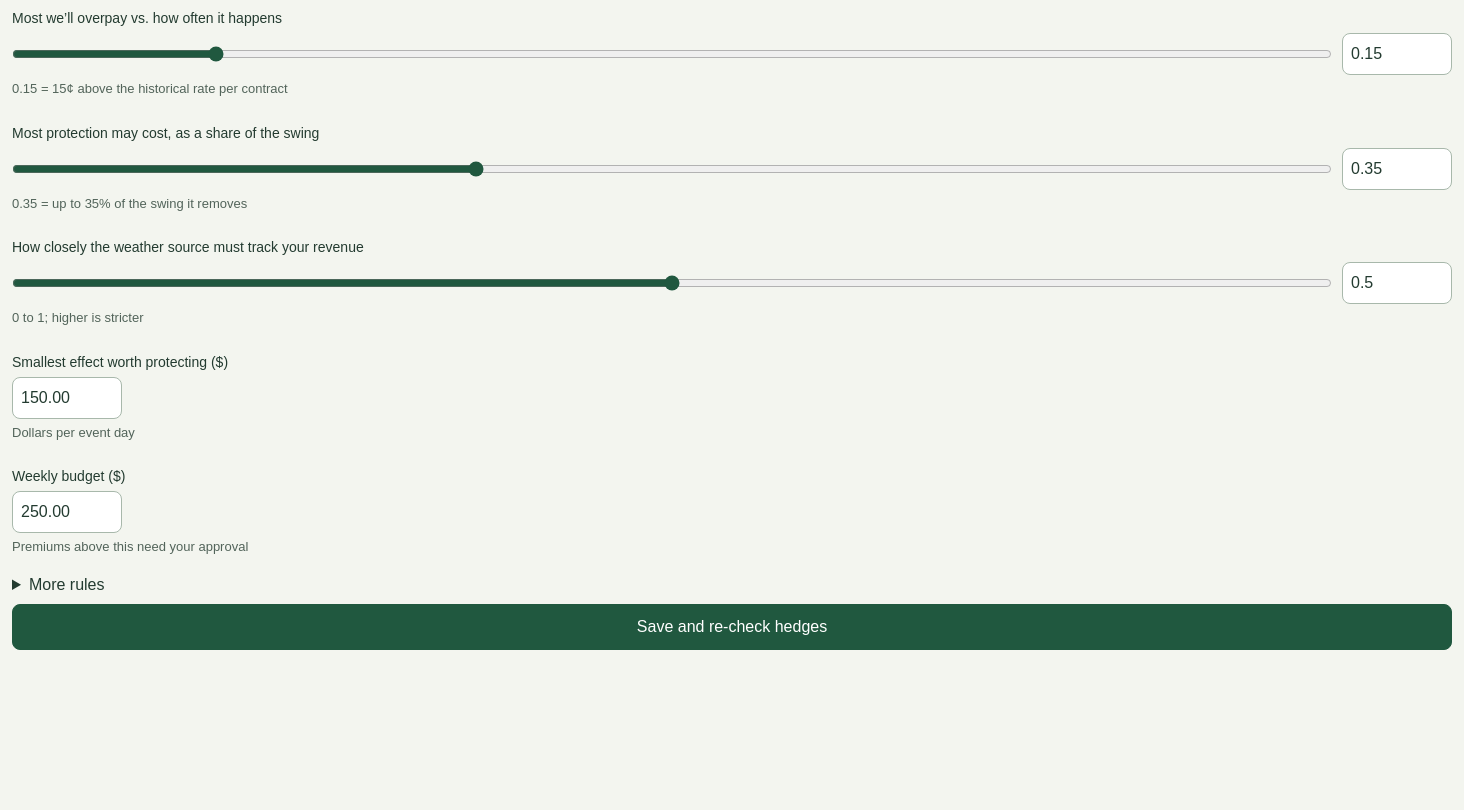
Test: C7-A19 settings validation › disables Save for {} = 1.5
Expected: the button "Save and re-check hedges" is enabled, [12,604,1452,650]
Replace the text in the field labelled "Most we’ll overpay vs. how often it happens" with "1.5" at (1397, 54), box [1342,33,1452,75]
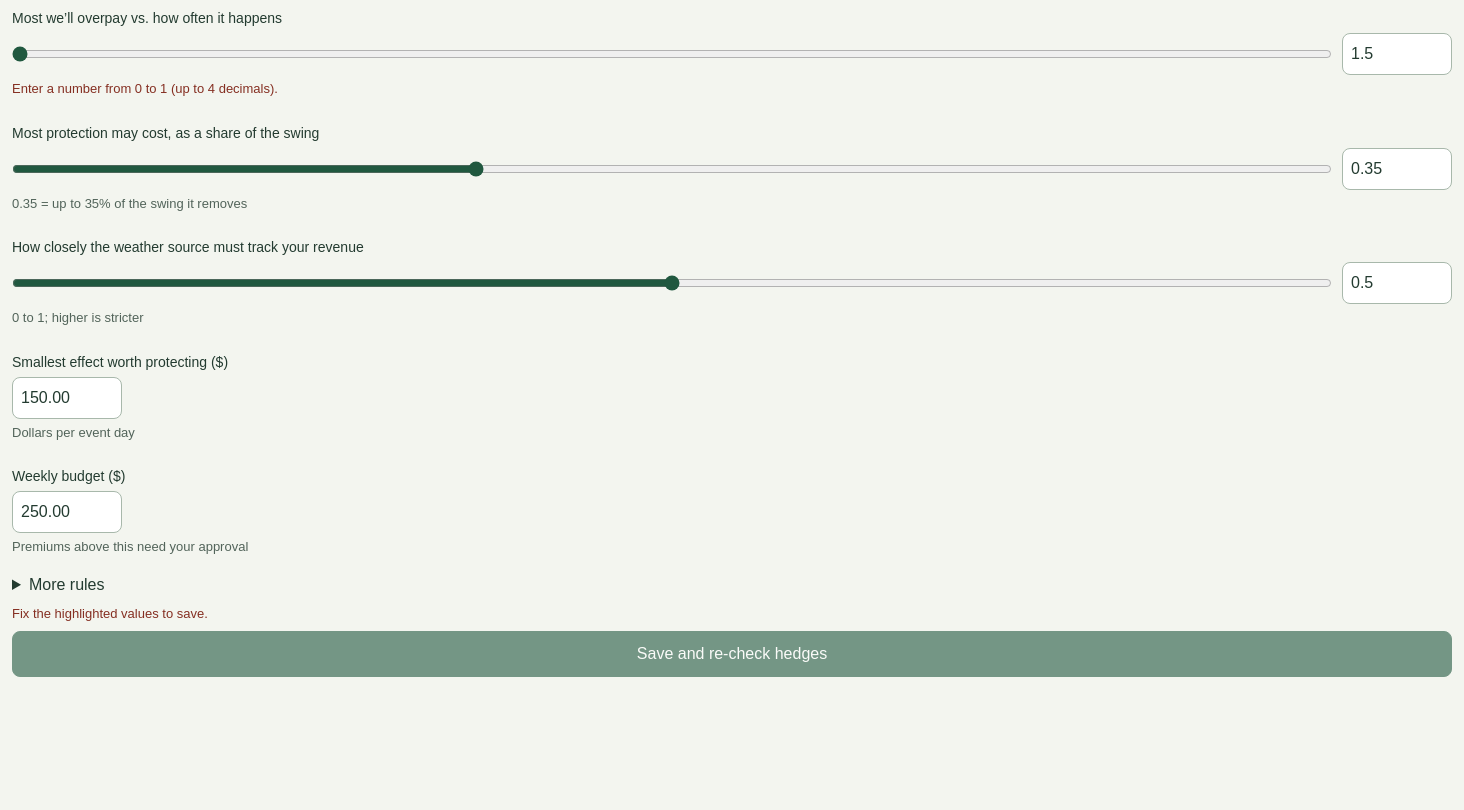
Now the button "Save and re-check hedges" is disabled, box [12,631,1452,677]
Now the text "Enter a number from 0 to 1 (up to 4 decimals)." is shown, box [12,81,278,96]
